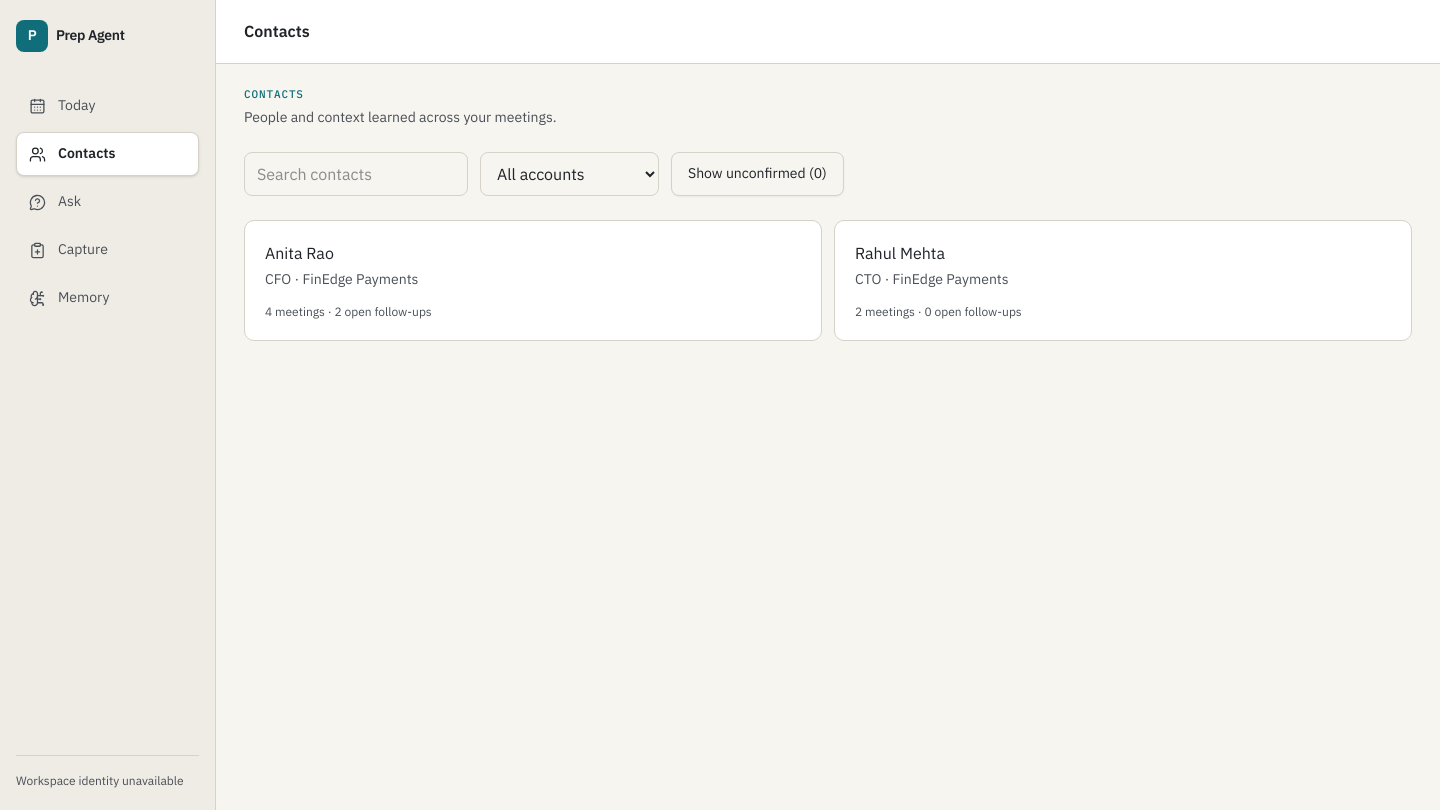
Test case: Contacts list › searches contacts by name and shows account filters
Check: the text "Anita Rao" is shown, box [265,243,334,263]
Check: the text "Rahul Mehta" is shown, box [855,243,945,263]
Type "Rahul" into the field labelled "Search contacts" at (356, 174), box [244,152,468,196]
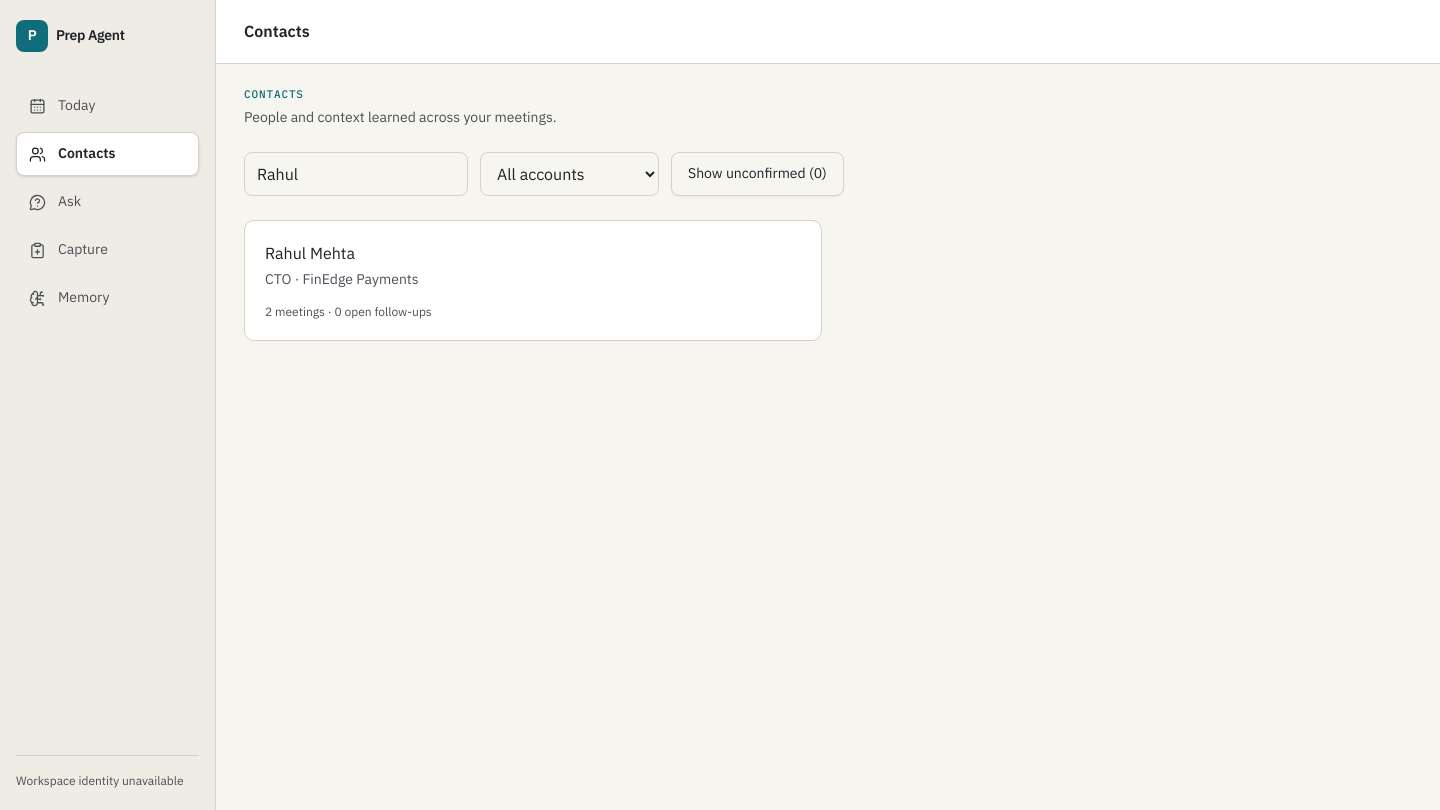
Check: the text "Rahul Mehta" is shown, box [265,243,355,263]
Check: the link "Anita Rao" is gone
